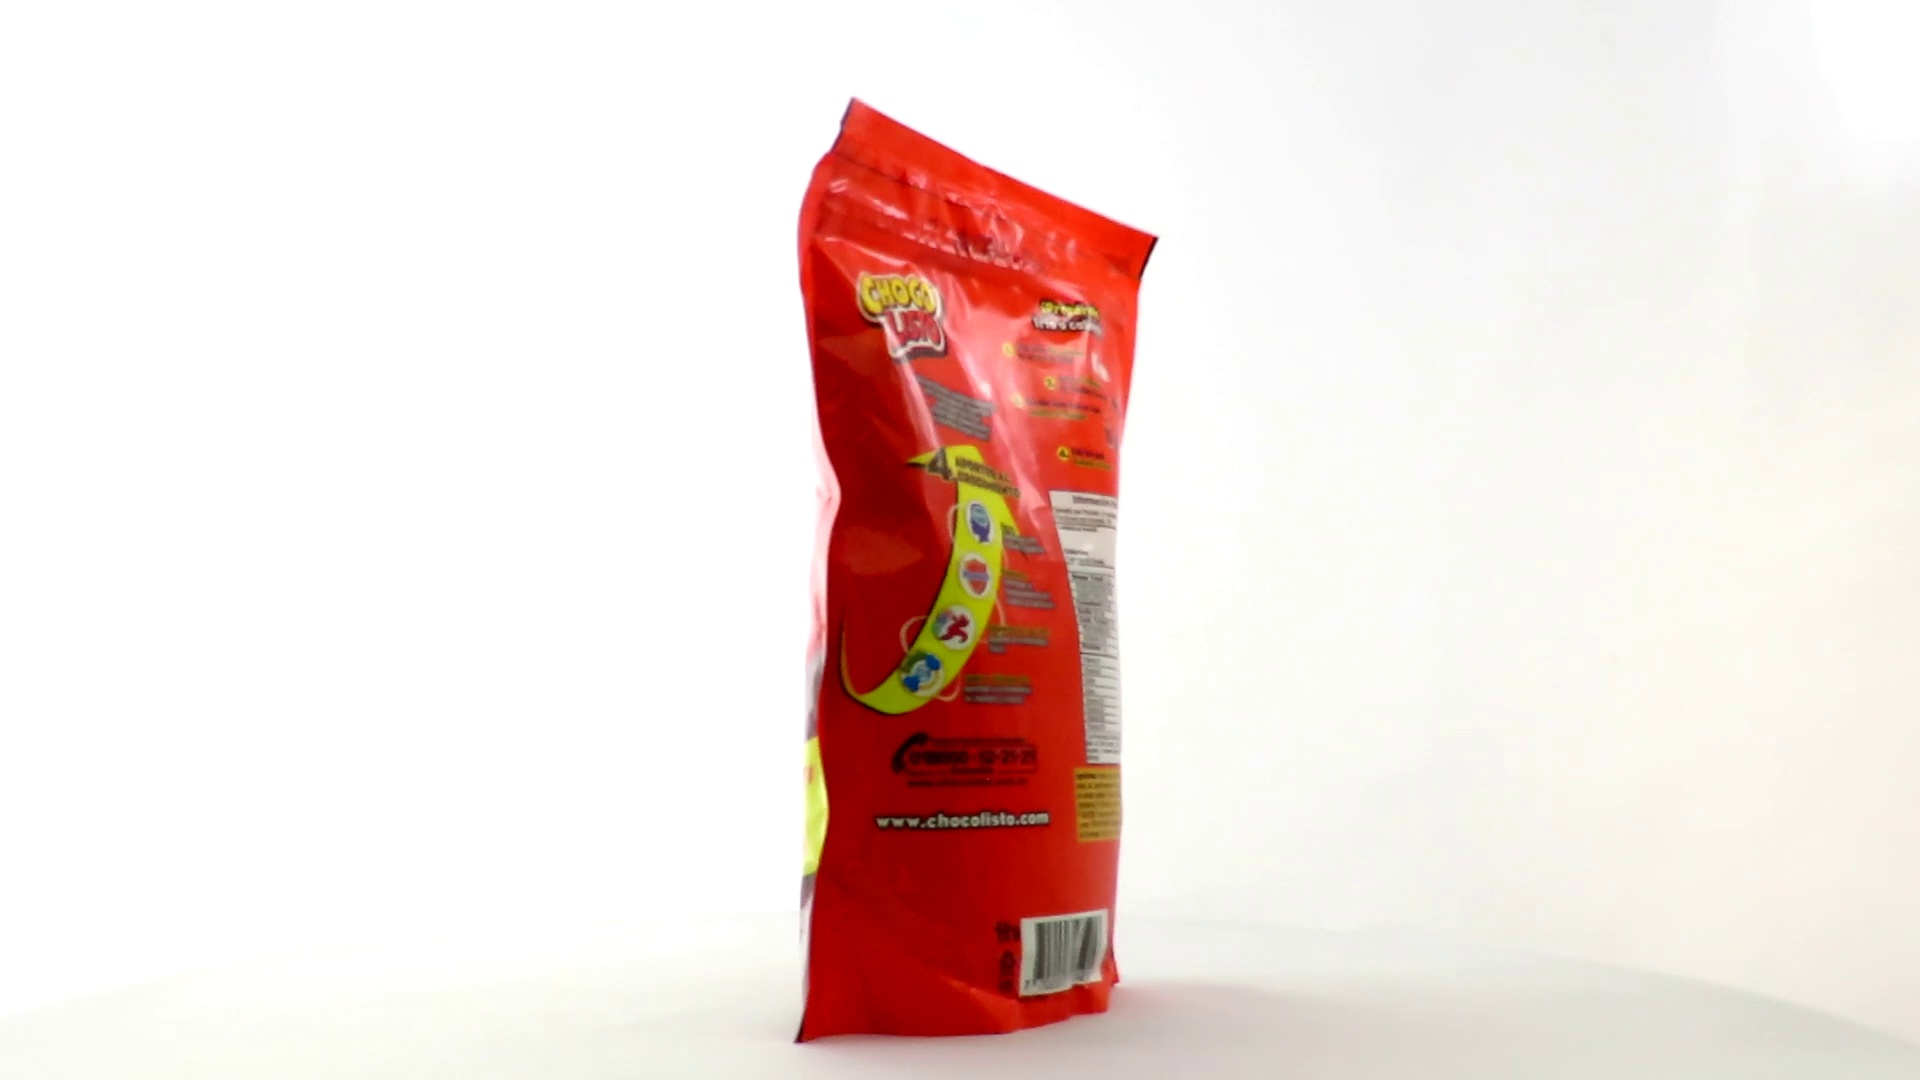COL0170103DYP36000: (789, 92, 1164, 1050)
